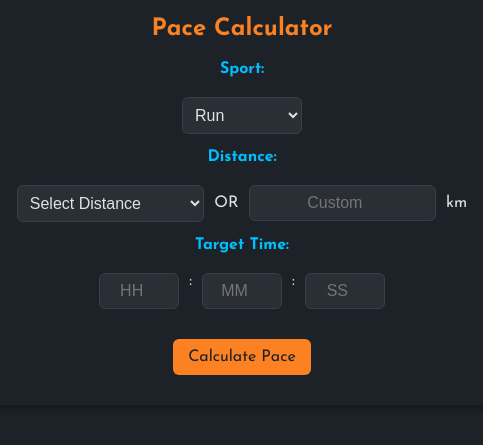
Scenario: Pace Calculator › calculates pace correctly for running
This screenshot has width=483, height=445.
Select "Run" in the dropdown labelled "Sport:" at [242, 115], box [182,97,302,134]
Select "10km" in the dropdown labelled "Distance:" at [111, 203], box [17,185,204,222]
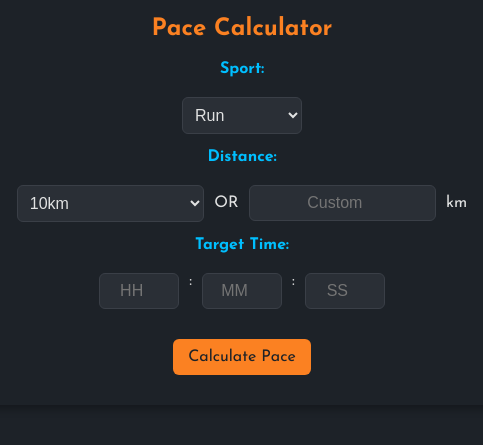
Type "0" into the number field with placeholder "HH" at [139, 291], box [99,273,179,309]
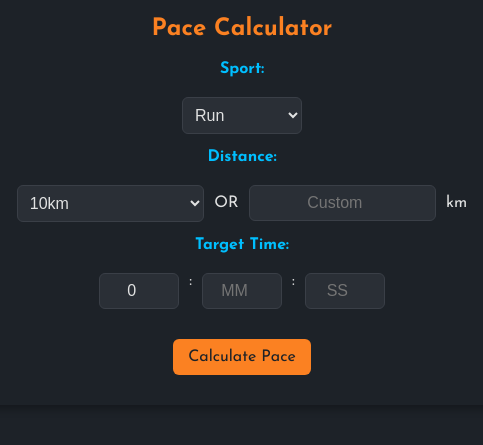
Type "50" into the number field with placeholder "MM" at [242, 291], box [202,273,282,309]
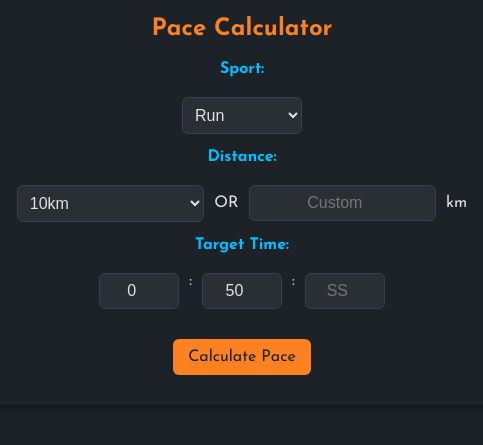
Type "0" into the number field with placeholder "SS" at [345, 291], box [305,273,385,309]
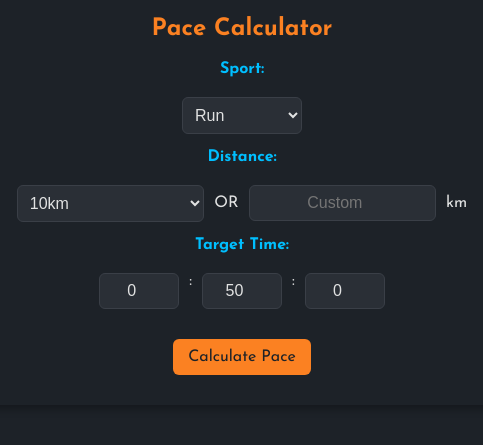
Click the button "Calculate Pace" at [242, 357], box [173,339,311,375]
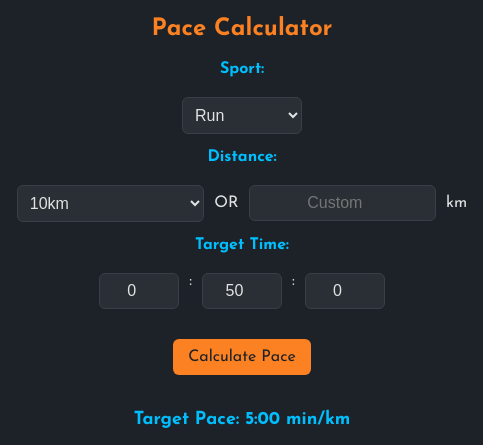
Check: the heading "Target Pace: 5:00 min/km" is shown, box [134,410,350,429]
